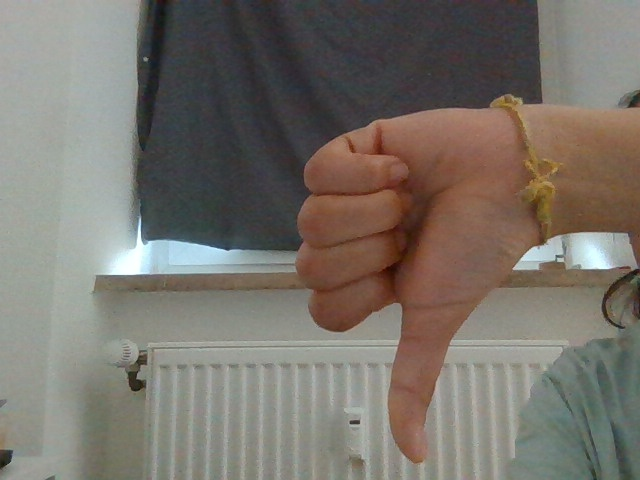Thumbs down: (277, 99, 547, 467)
